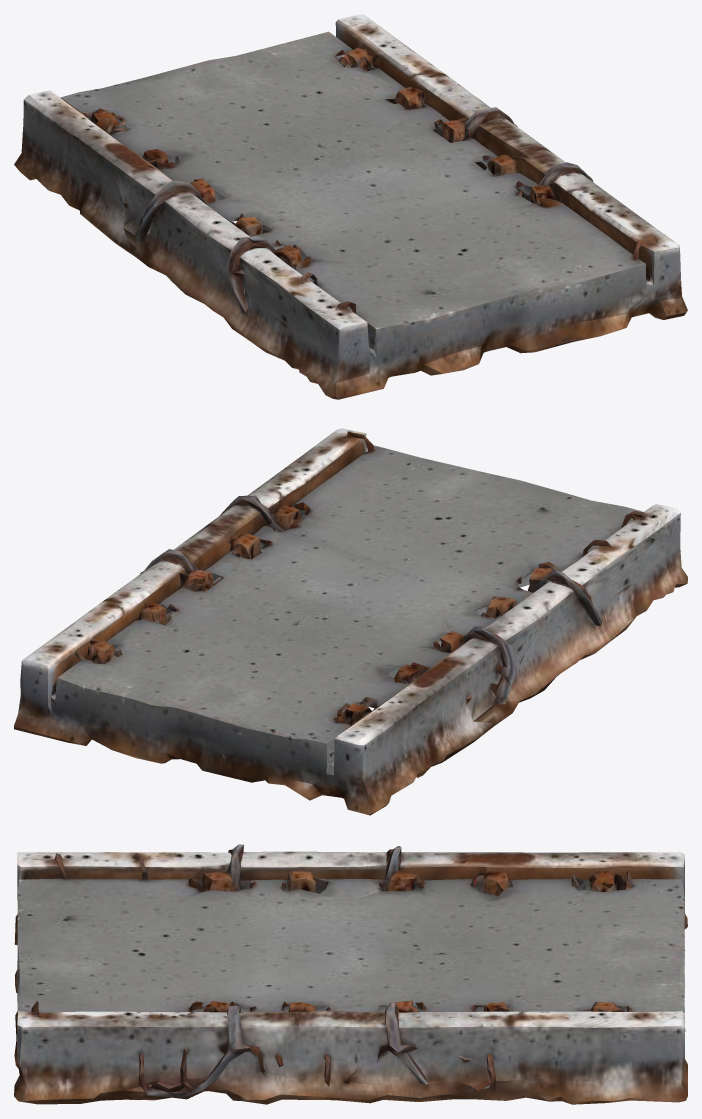
File: debris_rebar_slab.glb
3 renders of one model, top to bottom at view 1: azimuth 30°, elevation 25°; view 2: azimuth 150°, elevation 25°; view 3: azimuth 270°, elevation 25°, orthographic. The views are drawn at different scales.
Parts seen in each view (by area): view 1: debris_rebar_slab; view 2: debris_rebar_slab; view 3: debris_rebar_slab.
Boxes of the visible parts, <box> form: debris_rebar_slab: <box>14,14,687,399</box>; debris_rebar_slab: <box>14,428,687,815</box>; debris_rebar_slab: <box>14,844,687,1104</box>.
Size of the model in its own units: 2.04 by 0.432 by 3.
1 material, 1 textured.
